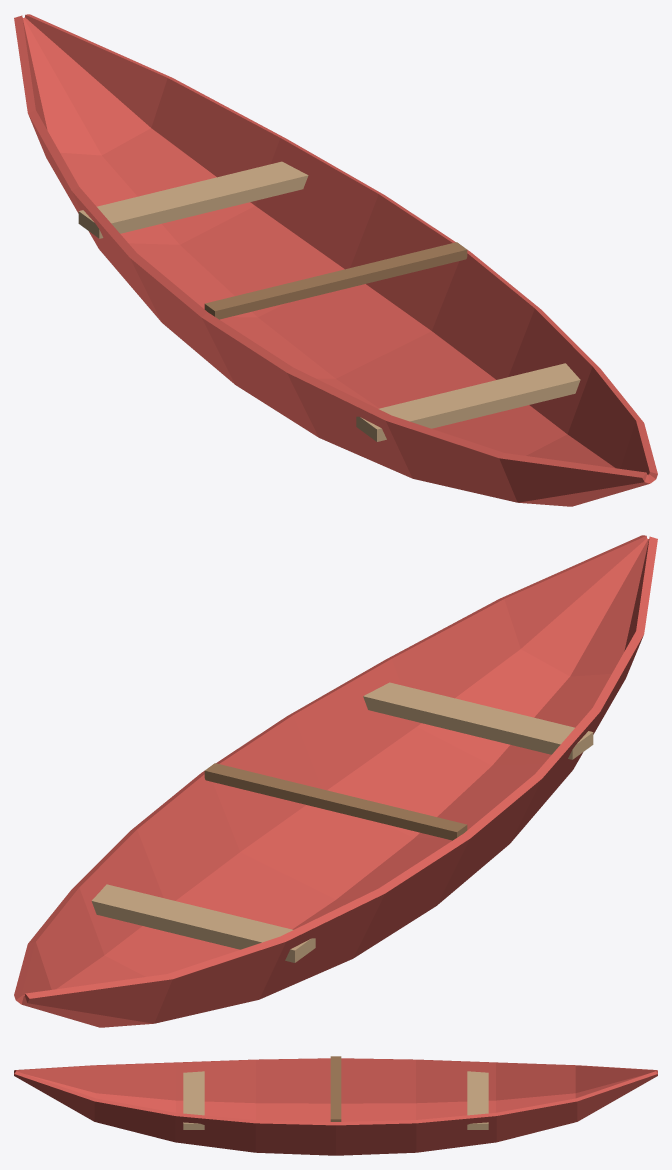
Rendered from SM_Canoe.fbx.
3 renders of one model, top to bottom at view 1: azimuth 30°, elevation 25°; view 2: azimuth 150°, elevation 25°; view 3: azimuth 270°, elevation 25°, orthographic. The views are drawn at different scales.
Visible parts, largest first — view 1: SM_Canoe; view 2: SM_Canoe; view 3: SM_Canoe.
Part boxes in pixels (bbox=[...]): SM_Canoe: bbox=[14, 14, 657, 506]; SM_Canoe: bbox=[14, 535, 657, 1027]; SM_Canoe: bbox=[14, 1056, 657, 1155].
Size of the model in its own units: 0.8955 by 0.455 by 3.63.
